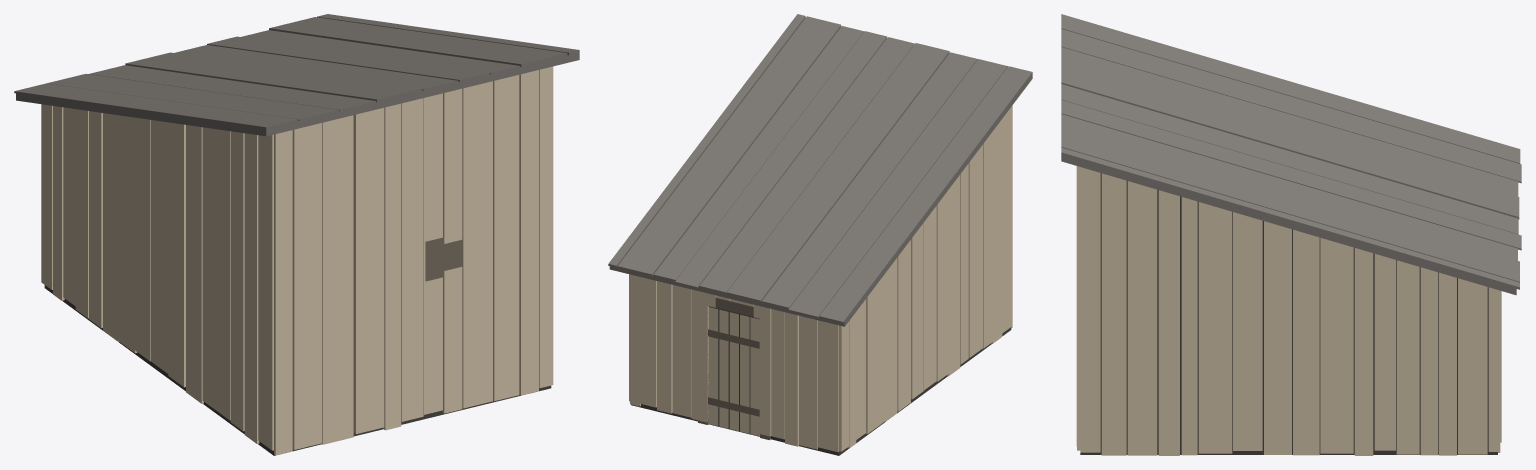
Rendered from recon_1835_north_a4_010__inferred_1835.glb.
3 renders of one model, left to right at view 1: azimuth 30°, elevation 25°; view 2: azimuth 150°, elevation 25°; view 3: azimuth 270°, elevation 25°, orthographic. The views are drawn at different scales.
Visible parts, largest first — view 1: recon_1835_north_a4_010__inferred_1835; view 2: recon_1835_north_a4_010__inferred_1835; view 3: recon_1835_north_a4_010__inferred_1835.
Boxes of the visible parts, x1,y1,x2,y2 form: recon_1835_north_a4_010__inferred_1835: (14, 14, 579, 455); recon_1835_north_a4_010__inferred_1835: (608, 14, 1032, 455); recon_1835_north_a4_010__inferred_1835: (1061, 14, 1521, 455).
Bounding box in the file's own units: 3.88 × 4.04 × 5.43.
